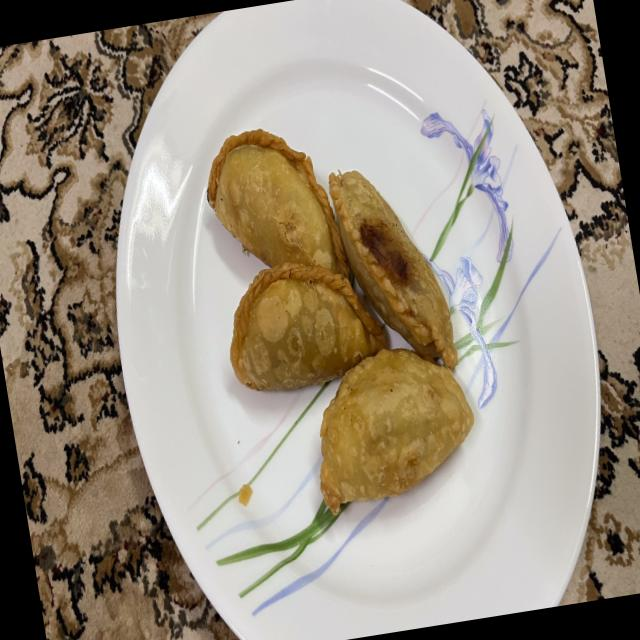karipap: (320, 348, 474, 516), (329, 170, 458, 369), (207, 129, 349, 278), (231, 264, 386, 391)
